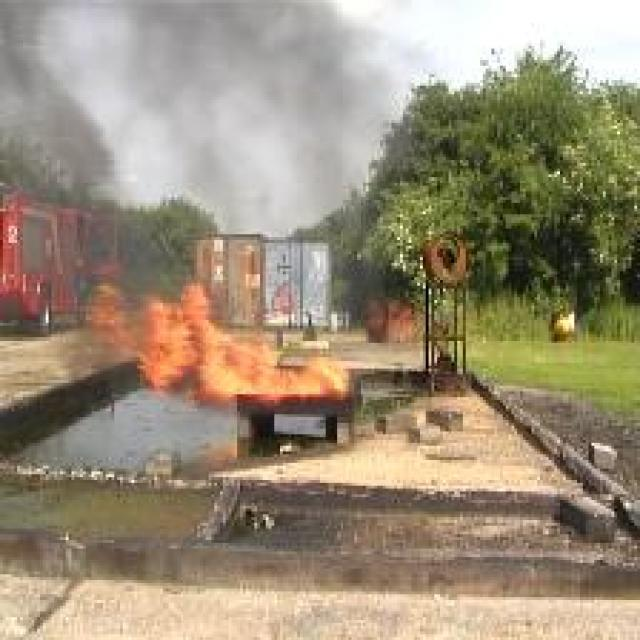Fire: (85, 284, 348, 407)
